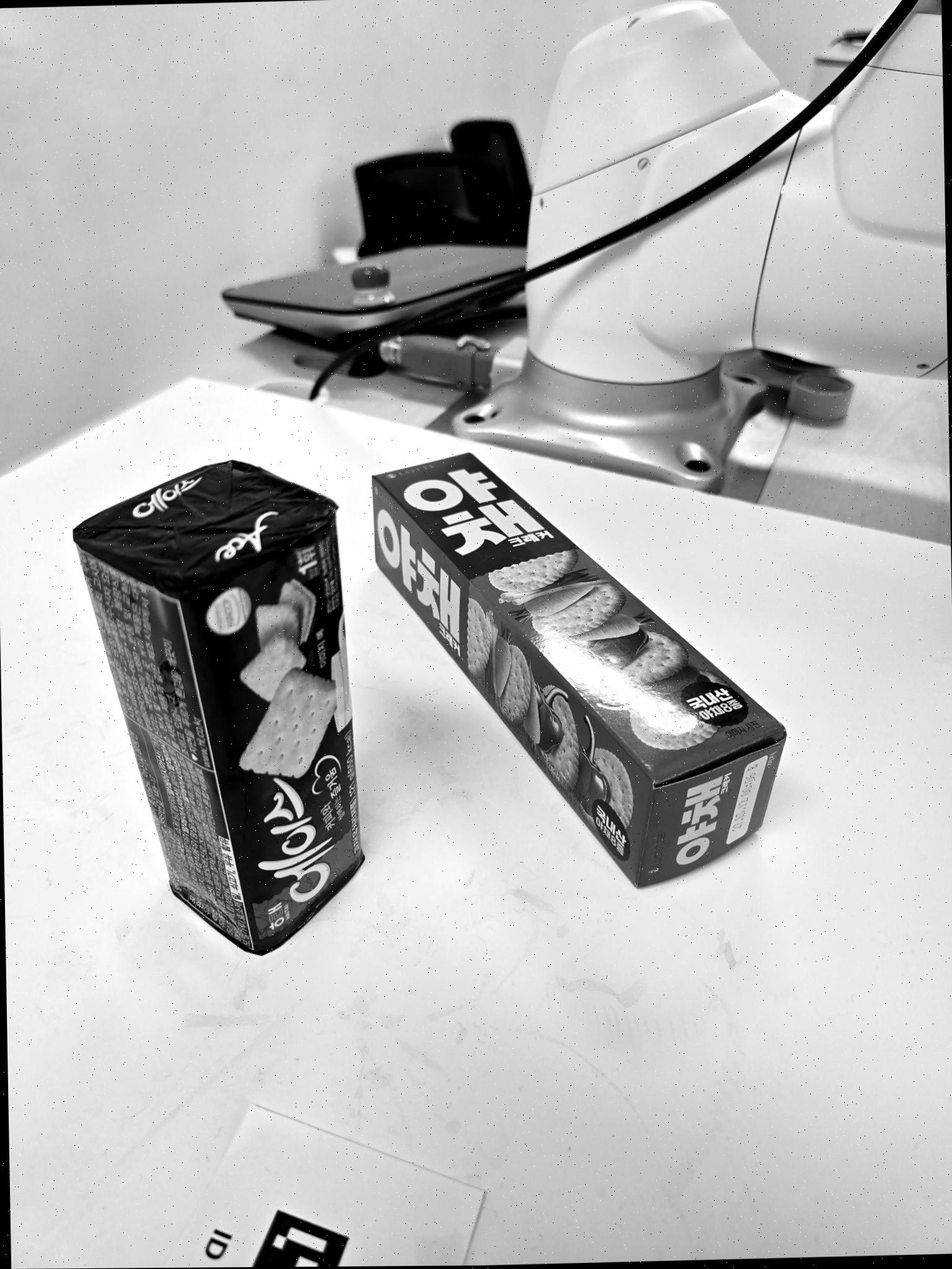cracker_ace: (74, 462, 363, 954)
cracker_vege: (373, 454, 785, 886)
